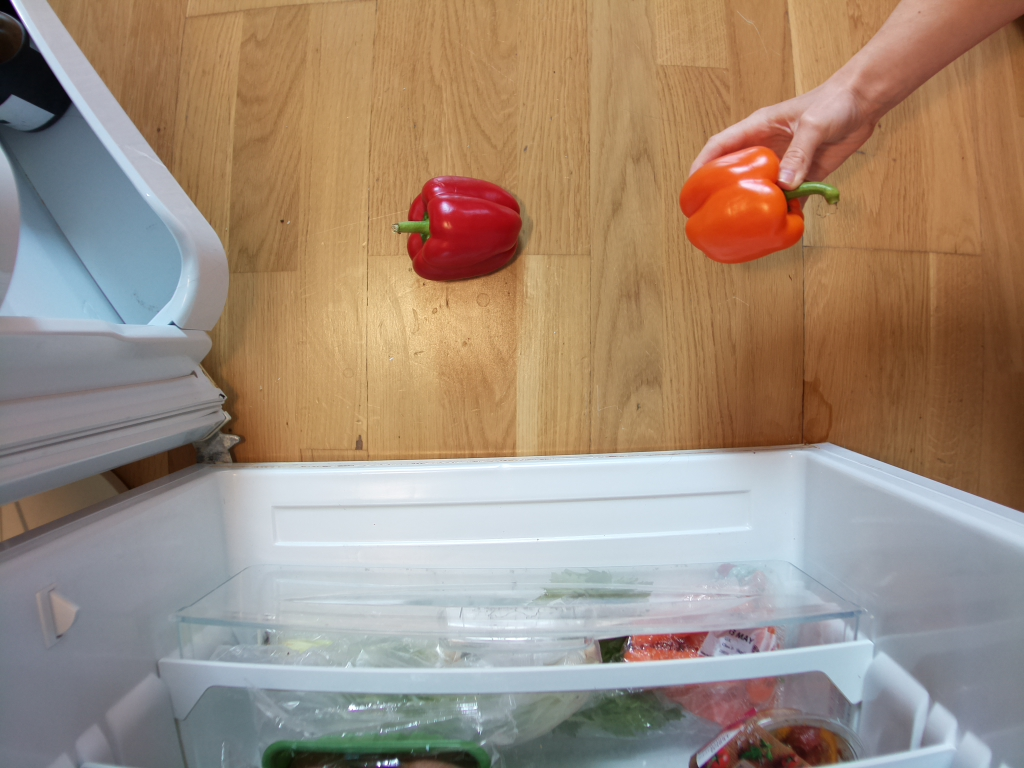pepper: (679, 145, 840, 265), (393, 174, 527, 282)
